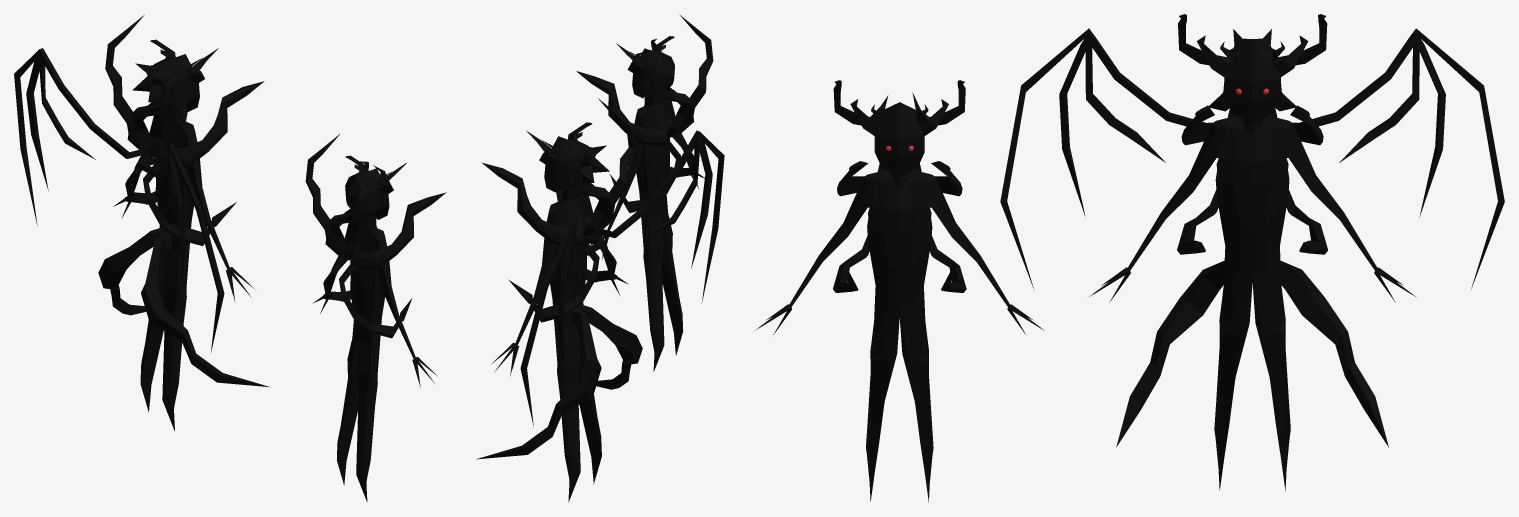
The model's file is demon3.fbx.
The picture shows the model from 3 angles, left to right: view 1: azimuth 30°, elevation 25°; view 2: azimuth 150°, elevation 25°; view 3: azimuth 270°, elevation 25°; orthographic projection. The views are drawn at different scales.
Parts seen in each view (by area): view 1: DemonManCrybaby, DemonRe; view 2: DemonManCrybaby, DemonRe; view 3: DemonManCrybaby, DemonRe.
Part boxes in pixels (x1=…): DemonManCrybaby: x1=14, y1=15, x2=270, y2=431; DemonRe: x1=305, y1=134, x2=446, y2=501; DemonManCrybaby: x1=476, y1=98, x2=724, y2=502; DemonRe: x1=576, y1=14, x2=713, y2=371; DemonManCrybaby: x1=1000, y1=14, x2=1504, y2=491; DemonRe: x1=755, y1=80, x2=1044, y2=502.
Size of the model in its own units: 658 by 1308 by 1843.
